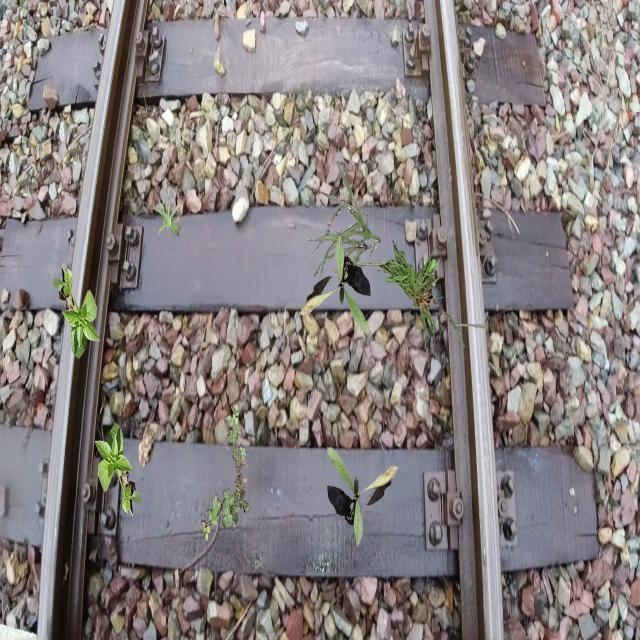Plant: (345, 240, 488, 360), (308, 161, 381, 286), (299, 235, 371, 334), (327, 447, 398, 546), (201, 403, 250, 541), (94, 422, 142, 517), (53, 265, 101, 360), (150, 192, 182, 238), (419, 257, 436, 289)
